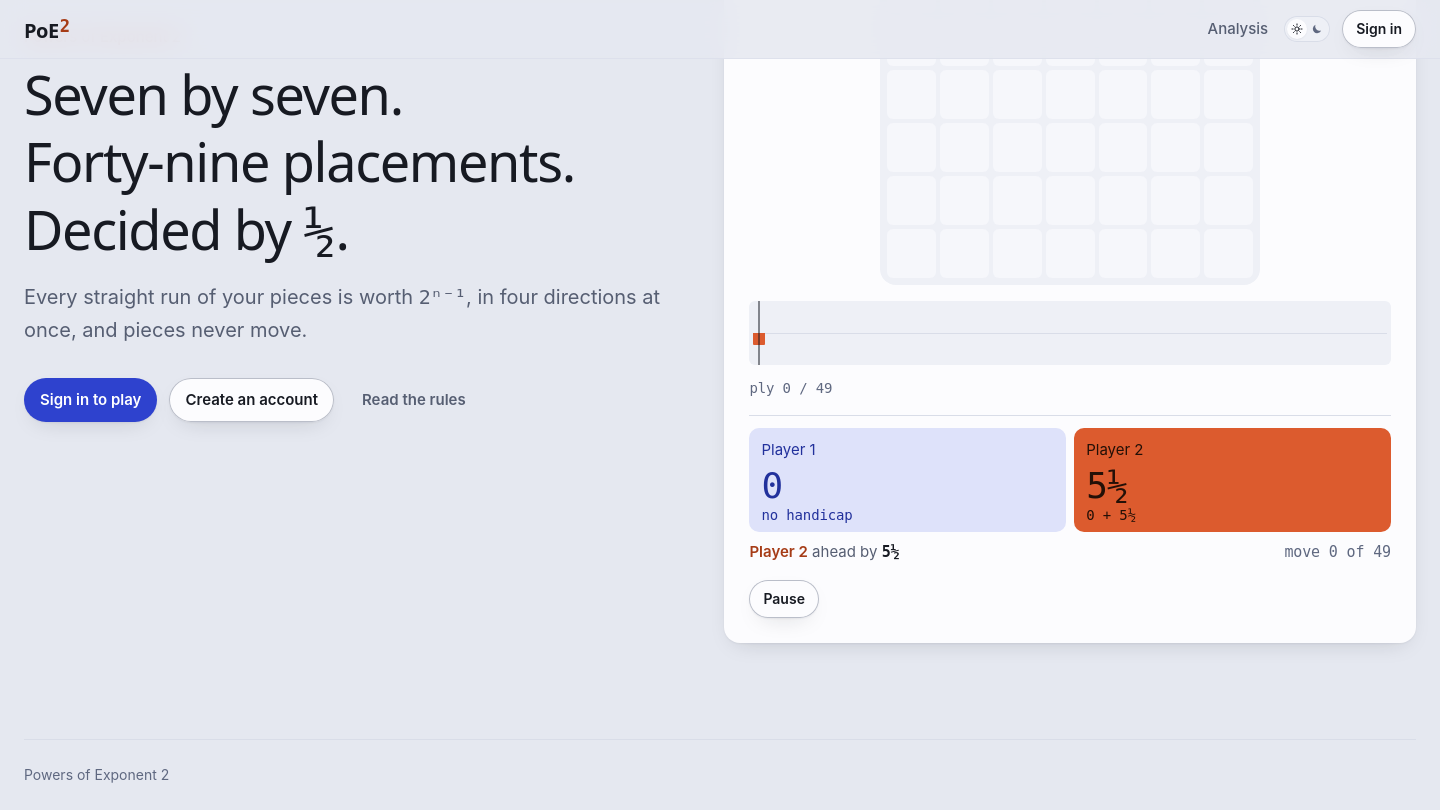
Test case: the landing page's demonstration › can be paused from the first frame, not only replayed at the end
(page scrolled)
expect the link "Sign in to play" is shown: met, box [24,378,158,422]
Click the button "Pause" at (784, 599), box [749,580,819,618]
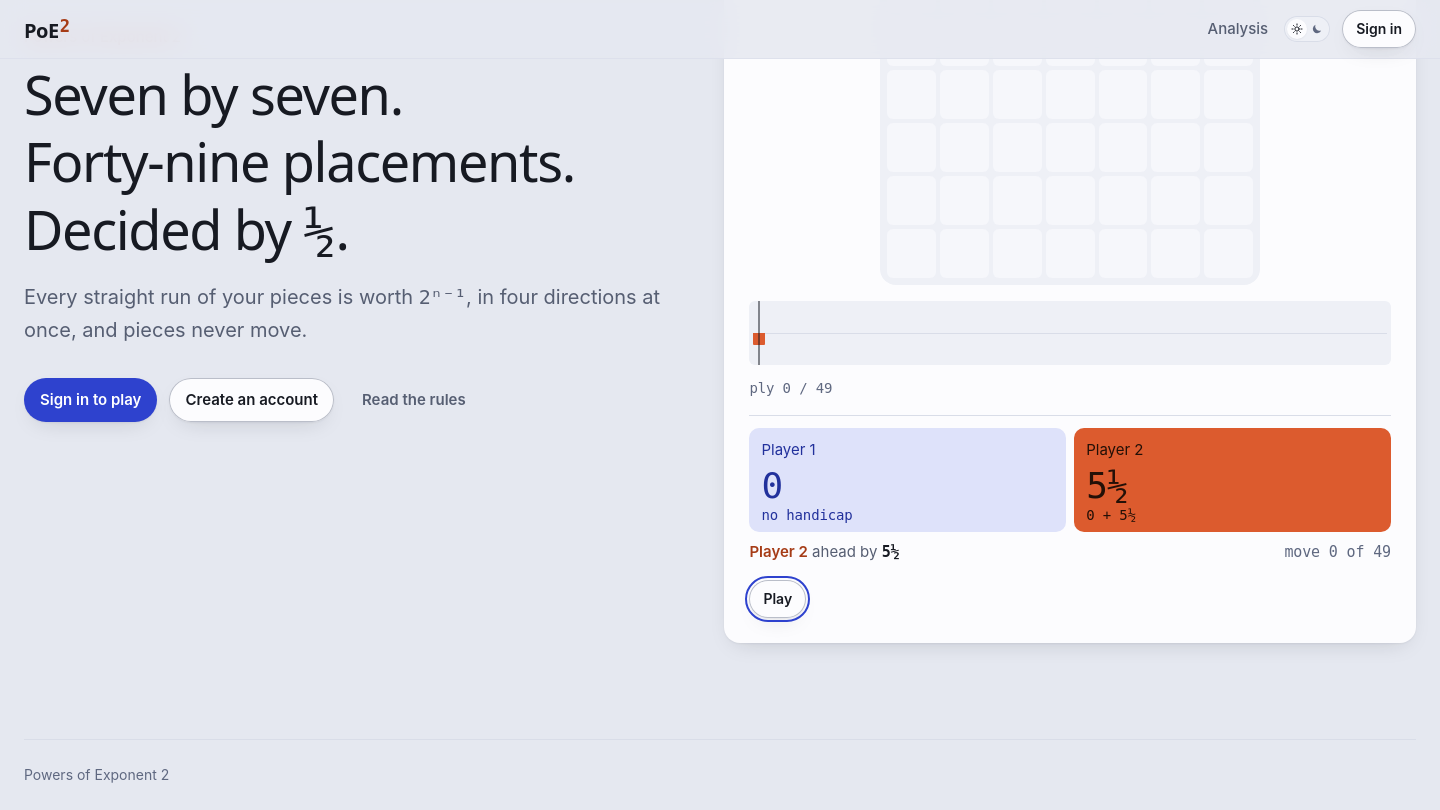
expect the button "Play" is shown: met, box [749,580,806,618]
